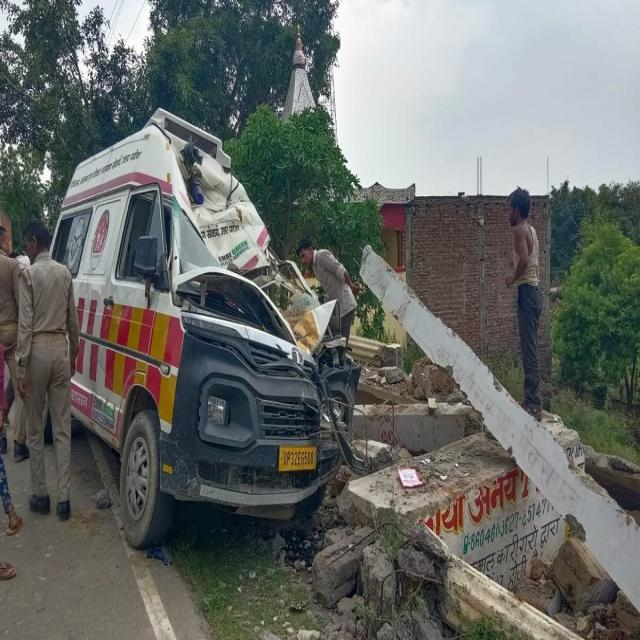accident: (52, 109, 360, 547)
